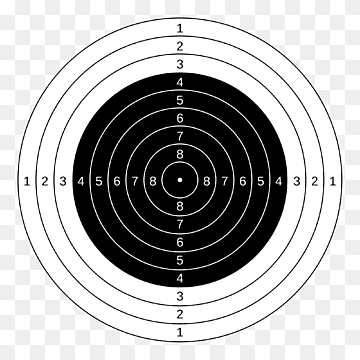target: (12, 7, 355, 352)
